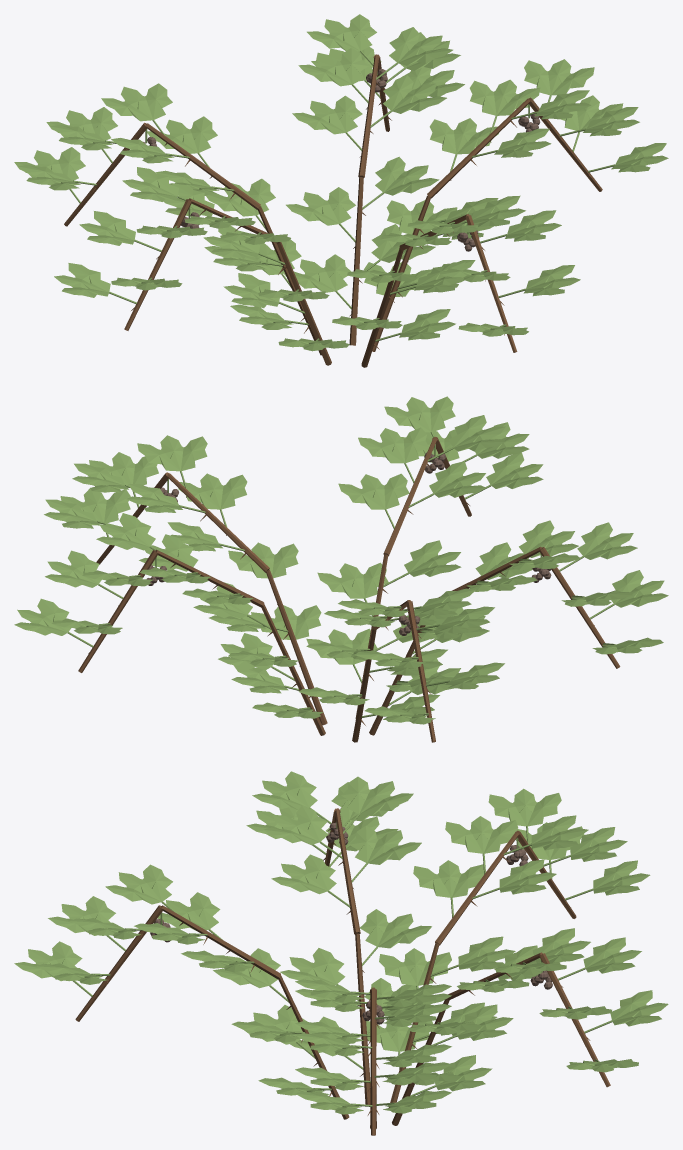
3 renders of one model, top to bottom at view 1: azimuth 30°, elevation 25°; view 2: azimuth 150°, elevation 25°; view 3: azimuth 270°, elevation 25°, orthographic. The views are drawn at different scales.
Parts seen in each view (by area): view 1: WW-273 Arching thorned blackberry bramble batched; view 2: WW-273 Arching thorned blackberry bramble batched; view 3: WW-273 Arching thorned blackberry bramble batched.
Boxes of the visible parts, x1,y1,x2,y2 form: WW-273 Arching thorned blackberry bramble batched: (14,14,668,367); WW-273 Arching thorned blackberry bramble batched: (14,396,668,742); WW-273 Arching thorned blackberry bramble batched: (14,771,668,1135).
Size of the model in its own units: 2.12 by 0.7454 by 1.94.
